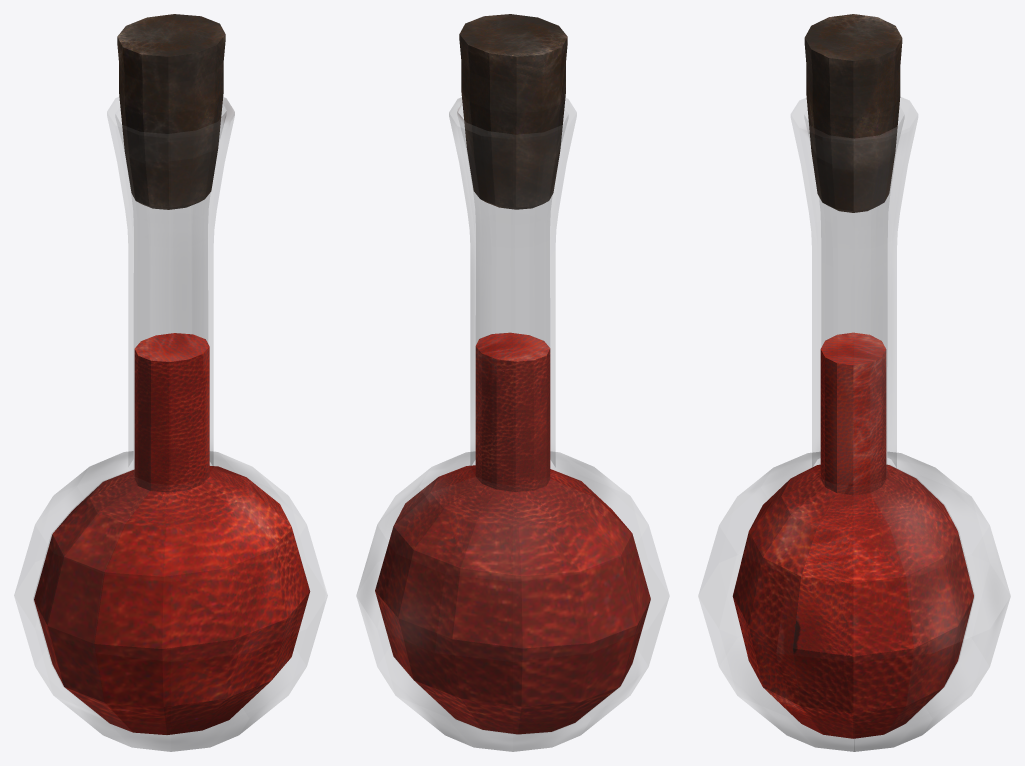
Rendered from PotionBottle.obj.
3 renders of one model, left to right at view 1: azimuth 30°, elevation 25°; view 2: azimuth 150°, elevation 25°; view 3: azimuth 270°, elevation 25°, orthographic.
Parts seen in each view (by area): view 1: Bottle; view 2: Bottle; view 3: Bottle.
Part boxes in pixels (x1,y1,x2,y2): Bottle: [14, 14, 327, 751]; Bottle: [356, 14, 668, 751]; Bottle: [698, 14, 1010, 751].
Size of the model in its own units: 4.44 by 10.96 by 4.44.
Materials: 3 (3 with a texture image).
